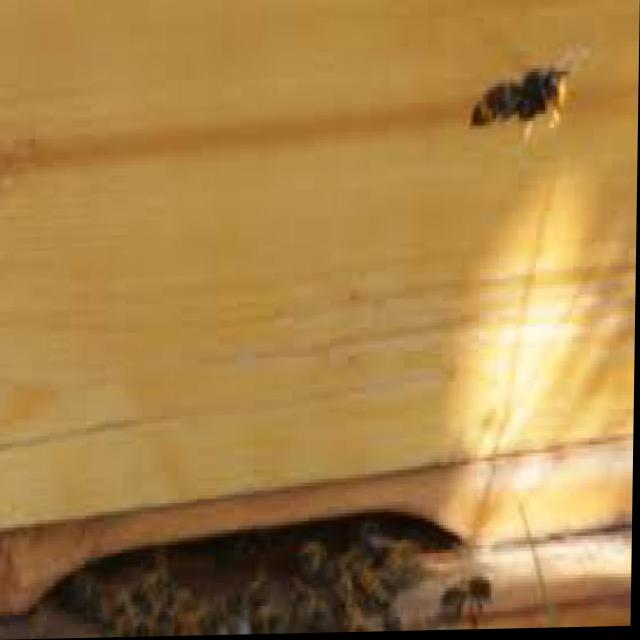Vespa Velutina: (459, 29, 600, 154)
